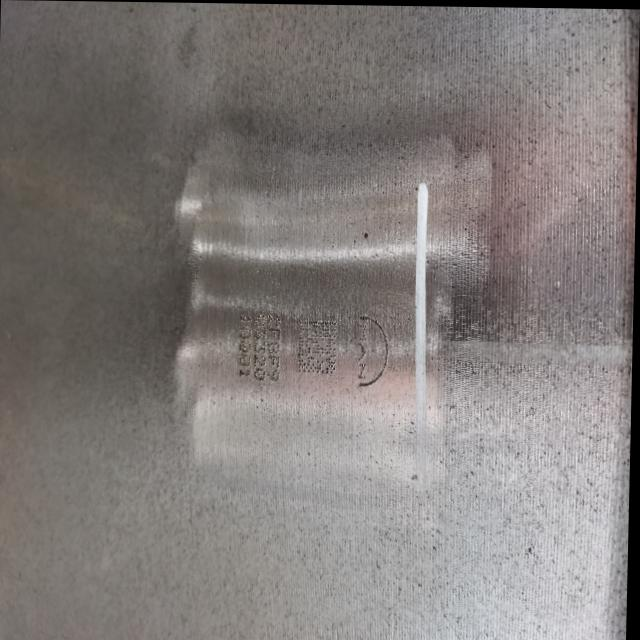dmc: (299, 321, 336, 373)
